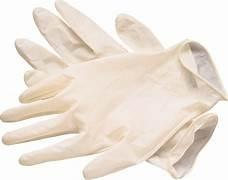Glove: (2, 42, 225, 177), (150, 114, 215, 176)
